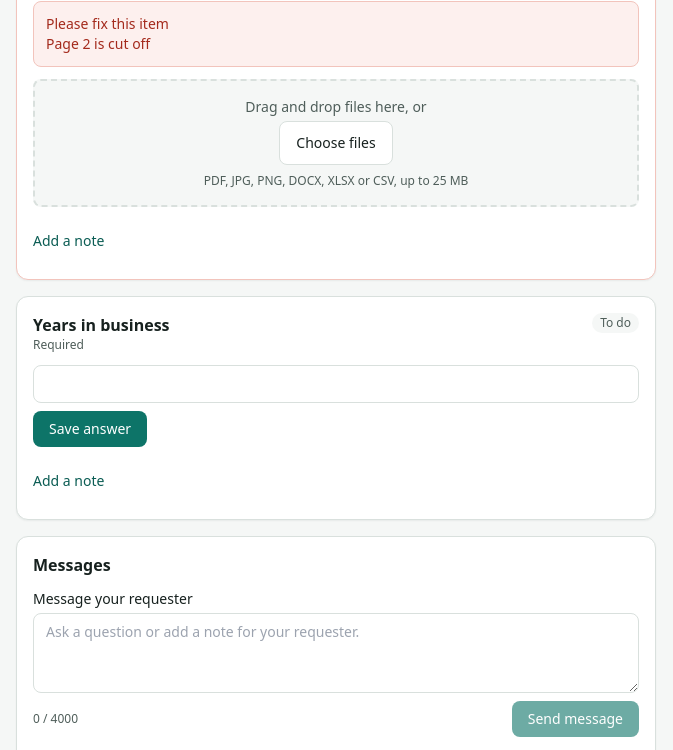
Scenario: PortalPage › shows a validation message from the server for a bad answer
(page scrolled)
Step 1. Type "1" into the number field named "Answer for Years in business" → [336, 384], box [33,365,639,403]
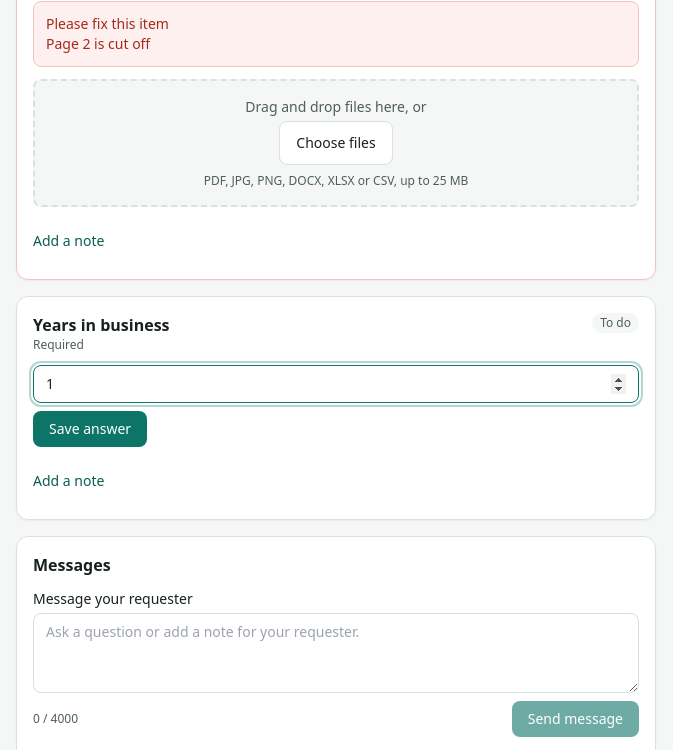
Step 2. Click the button "Save answer" → [90, 429], box [33,411,147,447]
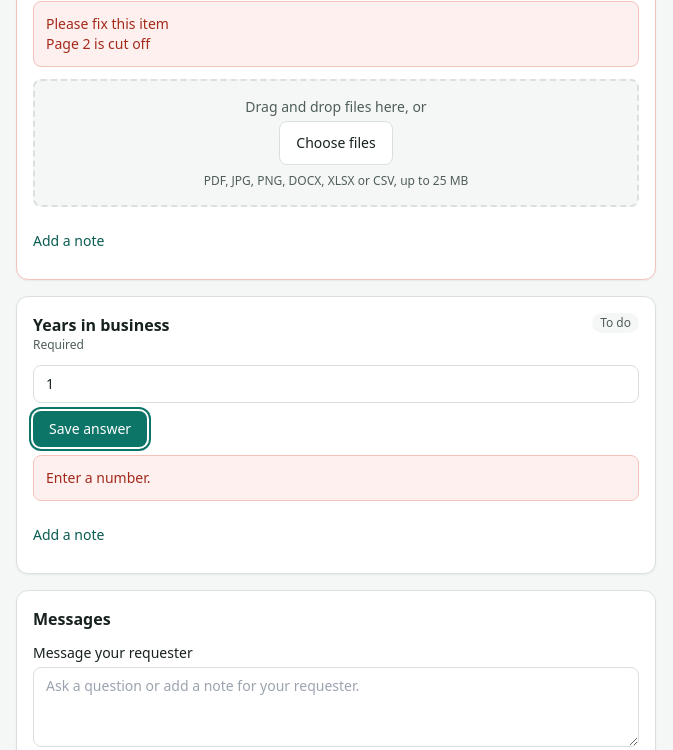
expect the list item "Enter a number." is shown: met, box [46,468,150,487]
